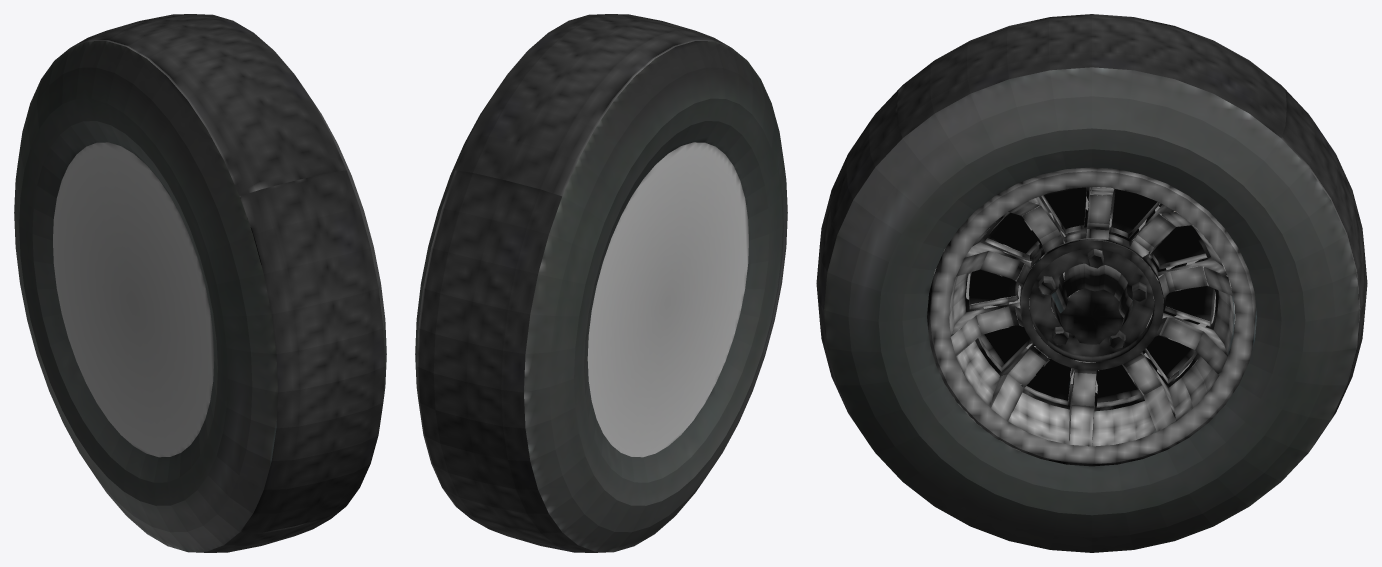
The model's file is jeep_wheelleft.obj.
The picture shows the model from 3 angles, left to right: view 1: azimuth 30°, elevation 25°; view 2: azimuth 150°, elevation 25°; view 3: azimuth 270°, elevation 25°; orthographic projection. The views are drawn at different scales.
Bounding box in the file's own units: 0.3112 × 0.9445 × 0.9445.
